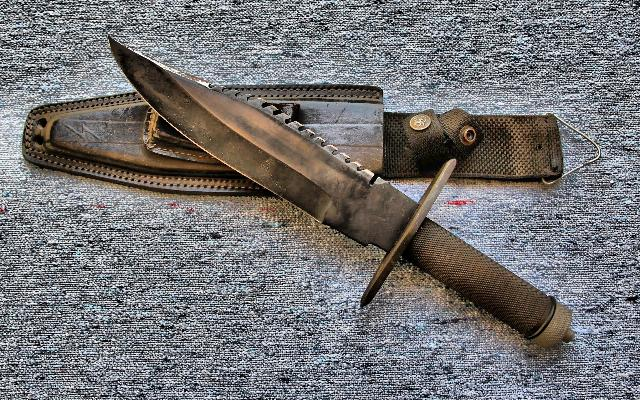knife: (99, 28, 414, 242)
